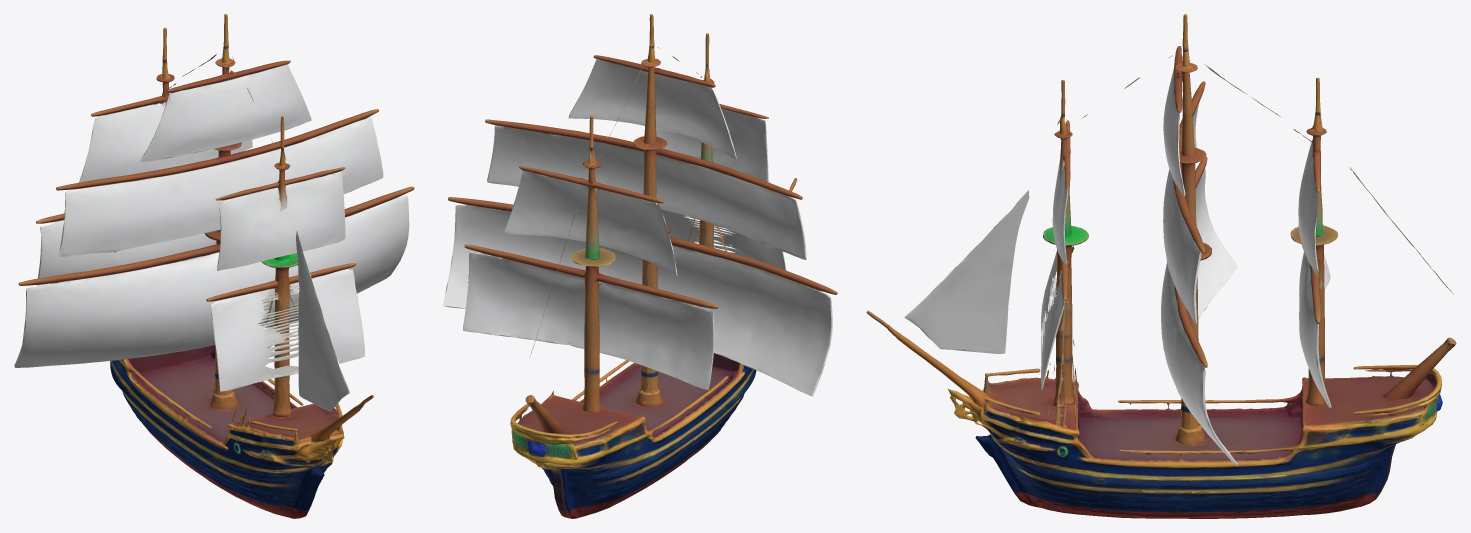
Rendered from tall_ship.glb.
3 renders of one model, left to right at view 1: azimuth 30°, elevation 25°; view 2: azimuth 150°, elevation 25°; view 3: azimuth 270°, elevation 25°, orthographic. The views are drawn at different scales.
Parts seen in each view (by area): view 1: Mesh; view 2: Mesh; view 3: Mesh.
Boxes of the visible parts, x1,y1,x2,y2 form: Mesh: (14,14,414,518); Mesh: (443,14,837,518); Mesh: (866,14,1456,518).
Bounding box in the file's own units: 1.5 × 1.64 × 1.79.
1 material, 1 textured.
